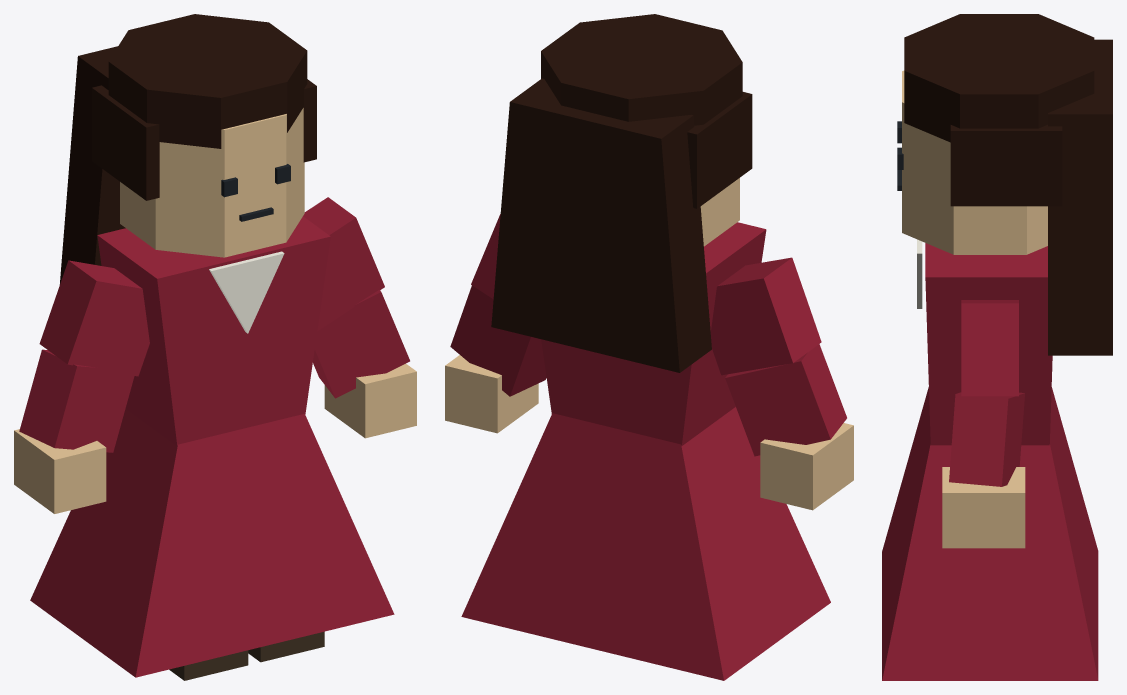
Rendered from Maria.glb.
3 views of the same model, side by side, from view 1: azimuth 30°, elevation 25°; view 2: azimuth 150°, elevation 25°; view 3: azimuth 270°, elevation 25° (orthographic). The views are drawn at different scales.
Parts seen in each view (by area): view 1: Body_M_CastV02_aqua_9b2037, Body, Body_M_CastV02_lightSkin_ebca99, Body_M_CastV02_white_f9f7ea; view 2: Body_M_CastV02_aqua_9b2037, Body, Body_M_CastV02_lightSkin_ebca99; view 3: Body_M_CastV02_aqua_9b2037, Body, Body_M_CastV02_lightSkin_ebca99, Body_M_CastV02_white_f9f7ea.
Part boxes in pixels (x1,y1,x2,y2): Body_M_CastV02_aqua_9b2037: (19,197,409,677); Body: (59,14,324,680); Body_M_CastV02_lightSkin_ebca99: (14,108,416,513); Body_M_CastV02_white_f9f7ea: (209,251,284,333); Body_M_CastV02_aqua_9b2037: (450,214,846,680); Body: (491,14,752,372); Body_M_CastV02_lightSkin_ebca99: (445,178,853,510); Body_M_CastV02_aqua_9b2037: (882,243,1098,680); Body: (904,14,1112,355); Body_M_CastV02_lightSkin_ebca99: (902,70,1047,548); Body_M_CastV02_white_f9f7ea: (917,239,922,308).
Bounding box in the file's own units: 1.23 × 1.8 × 0.64.
